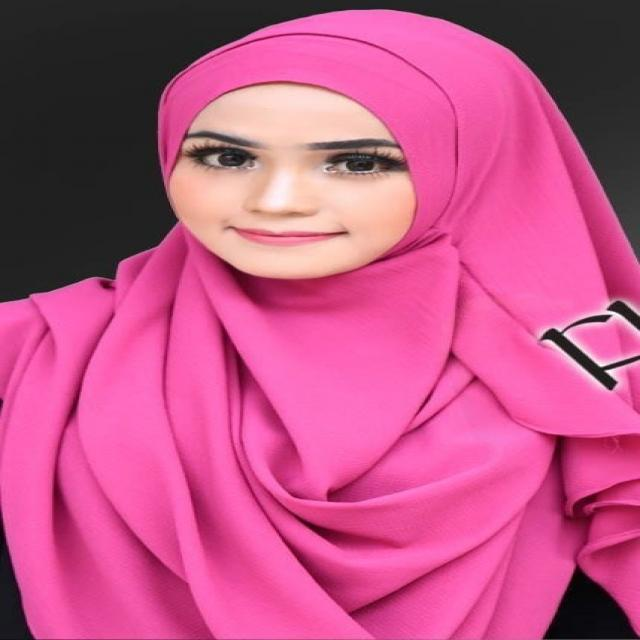head: (128, 8, 544, 288)
